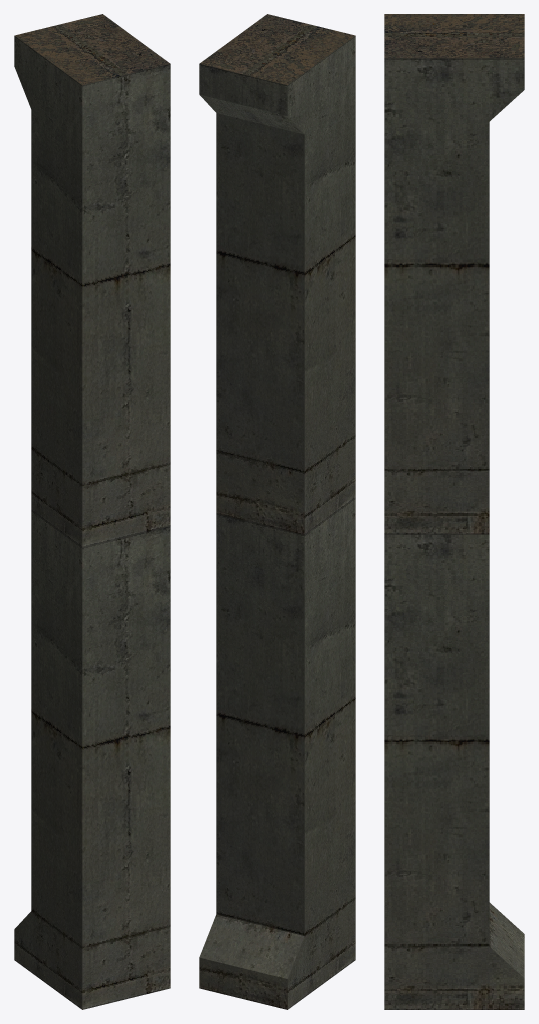
The model's file is pillar_rg_9.glb.
The picture shows the model from 3 angles, left to right: view 1: azimuth 30°, elevation 25°; view 2: azimuth 150°, elevation 25°; view 3: azimuth 270°, elevation 25°; orthographic projection. The views are drawn at different scales.
Visible parts, largest first — view 1: pillar_rg_9; view 2: pillar_rg_9; view 3: pillar_rg_9.
Boxes of the visible parts, x1,y1,x2,y2 form: pillar_rg_9: (14,14,170,1009); pillar_rg_9: (199,14,355,1009); pillar_rg_9: (384,14,524,1009).
Bounding box in the file's own units: 0.6 × 6 × 0.8.
Materials: 2 (2 with a texture image).
